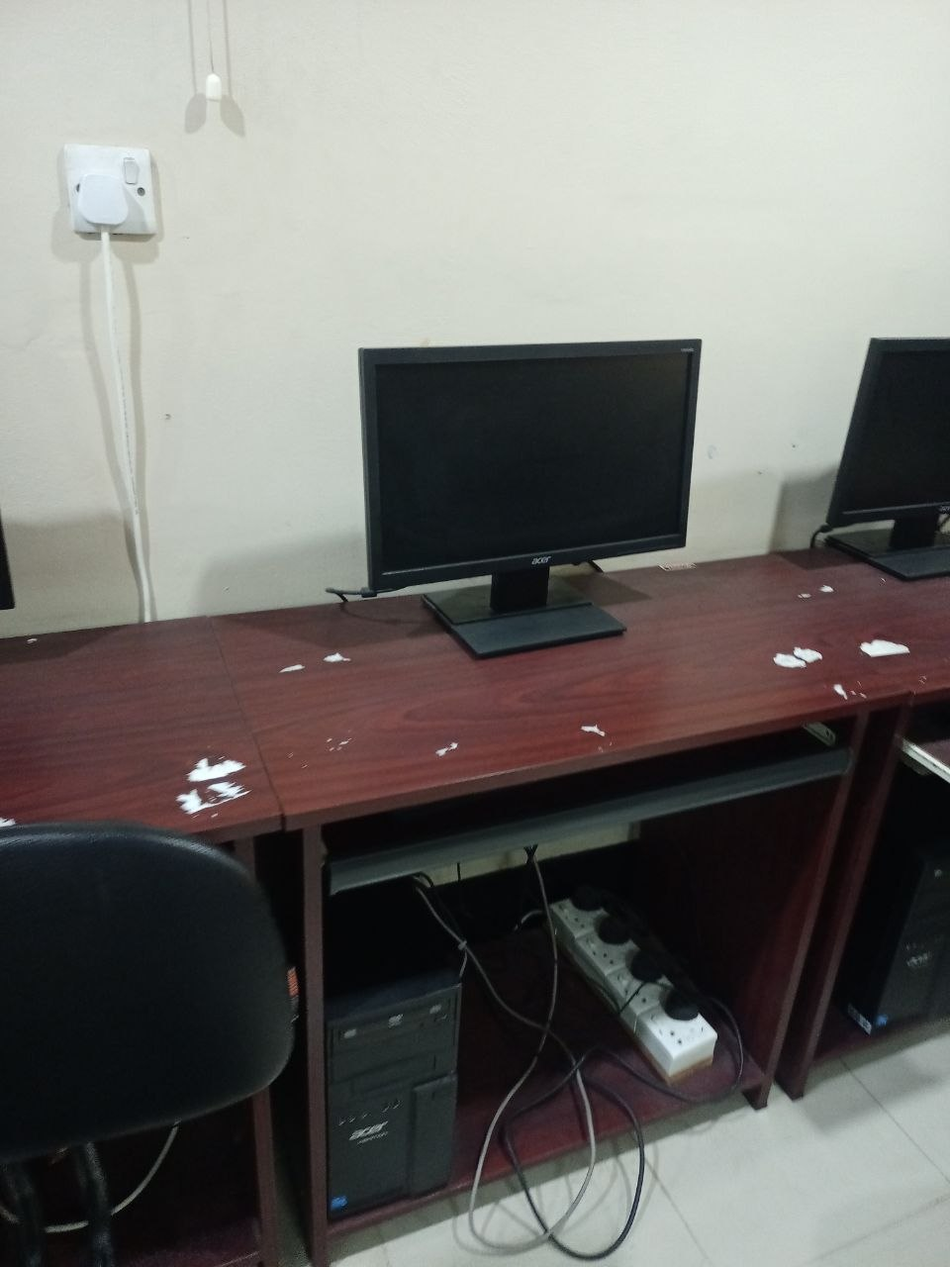computer monitor: (359, 341, 700, 654), (827, 339, 949, 578), (0, 522, 13, 609)
